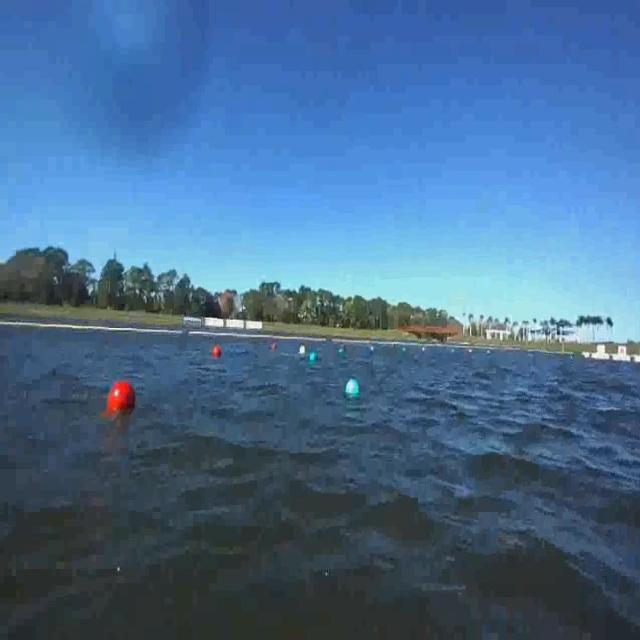green-buoy: (345, 378, 361, 398), (308, 351, 316, 364)
red-buoy: (106, 379, 138, 416), (212, 345, 222, 359)
